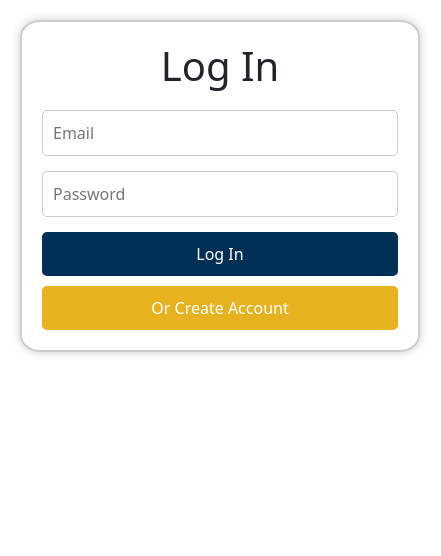
it: Render Login Screen - then toggle to Sign Up
This screenshot has width=441, height=556.
Click the button
Click the button "Or Create Account" at point(220, 308), box 42,286 -> 398,330
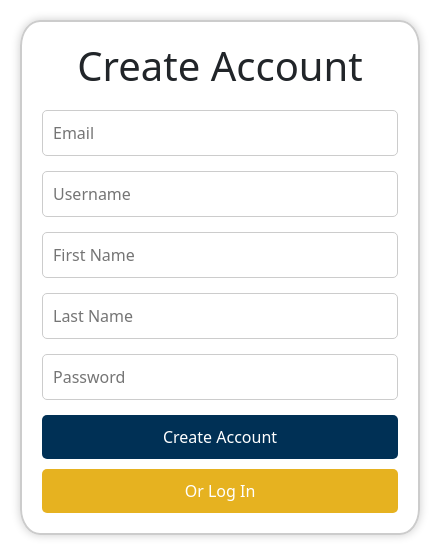
Expected: the field with placeholder "First Name" is shown, 42,232 -> 398,278
Expected: the field with placeholder "Last Name" is shown, 42,293 -> 398,339
Expected: the field with placeholder "Username" is shown, 42,171 -> 398,217
